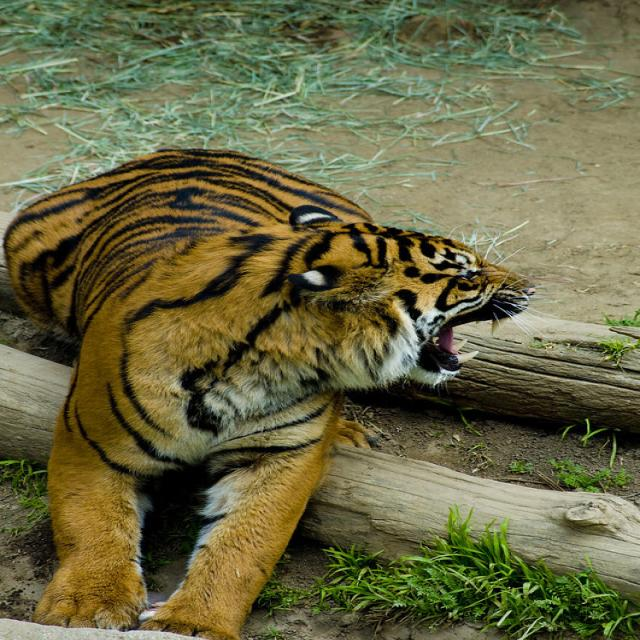Tiger: (16, 135, 556, 631)
